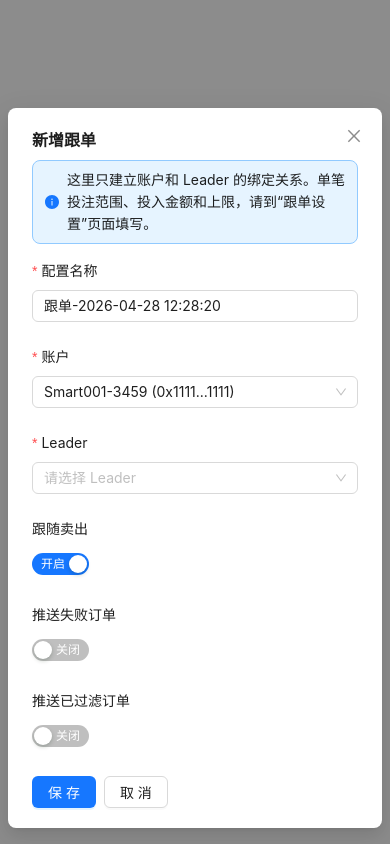
AddModal › hides leaders that are already linked to the selected account
Press the mouse on the dropdown labelled "Leader" at (67, 443), box [32,432,102,454]
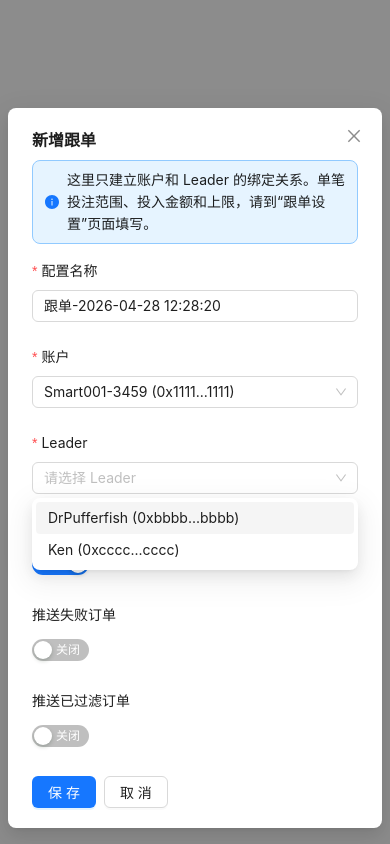
expect the text "DrPufferfish (0xbbbb...bbbb)" is shown: met, box [48,509,239,526]
expect the text "Ken (0xcccc...cccc)" is shown: met, box [48,541,180,558]
